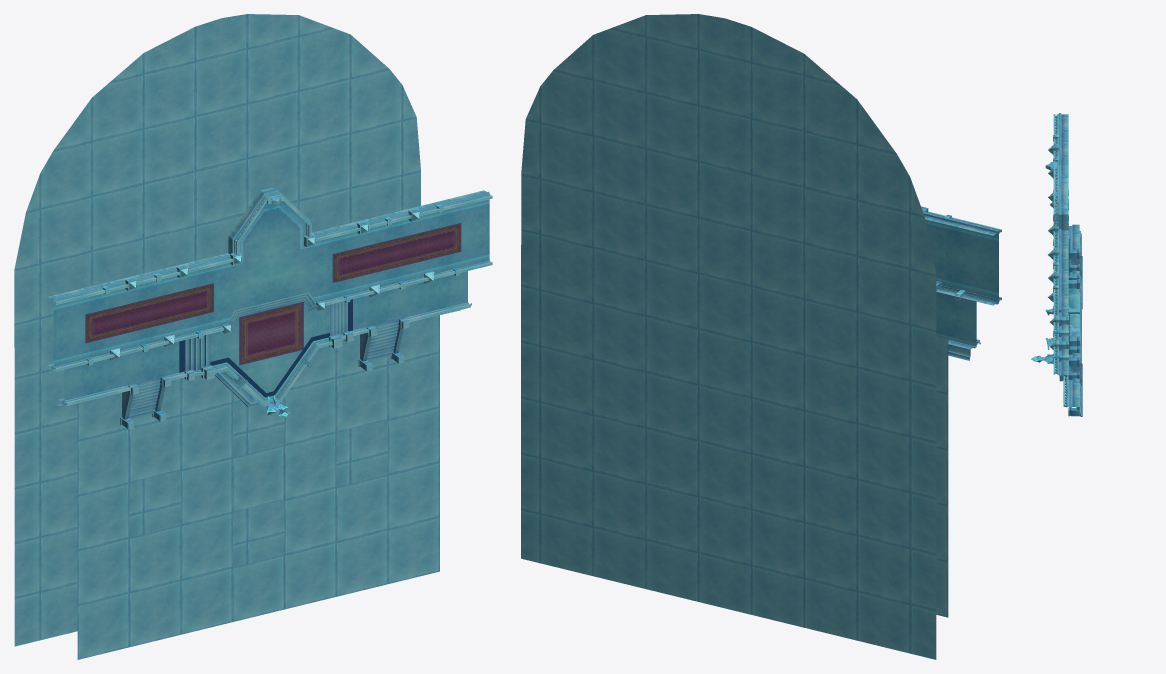
File: huodong_fuben_660_zoulang.obj
The picture shows the model from 3 angles, left to right: view 1: azimuth 30°, elevation 25°; view 2: azimuth 150°, elevation 25°; view 3: azimuth 270°, elevation 25°; orthographic projection. The views are drawn at different scales.
Visible parts, largest first — view 1: huodong_fuben_660_zoulang; view 2: huodong_fuben_660_zoulang; view 3: huodong_fuben_660_zoulang.
Part boxes in pixels (left/top/right/bottom): huodong_fuben_660_zoulang: left=14, top=14, right=492, bottom=659; huodong_fuben_660_zoulang: left=521, top=14, right=1001, bottom=659; huodong_fuben_660_zoulang: left=1031, top=113, right=1082, bottom=416.
Size of the model in its own units: 3352 by 4241 by 870.
9 materials, 9 textured.
